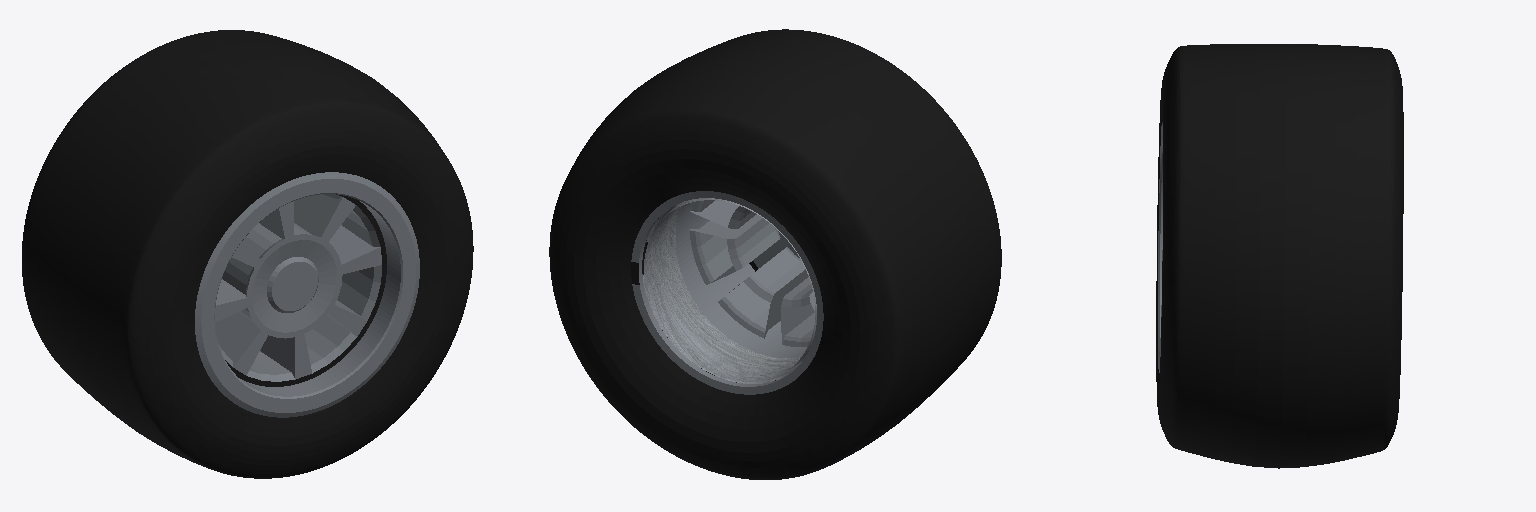
The picture shows the model from 3 angles: view 1: azimuth 30°, elevation 25°; view 2: azimuth 150°, elevation 25°; view 3: azimuth 270°, elevation 25°; orthographic projection.
Visible parts, largest first — view 1: front_left_front_wheels_left_Rim_inner.001_Circle.004; view 2: front_left_front_wheels_left_Rim_inner.001_Circle.004; view 3: front_left_front_wheels_left_Rim_inner.001_Circle.004.
Part boxes in pixels (x1,y1,x2,y2): front_left_front_wheels_left_Rim_inner.001_Circle.004: (22,30,473,478); front_left_front_wheels_left_Rim_inner.001_Circle.004: (549,29,1001,479); front_left_front_wheels_left_Rim_inner.001_Circle.004: (1156,44,1403,468).
Size of the model in its own units: 0.4239 by 0.4235 by 0.2467.
1 materials, 1 textured.